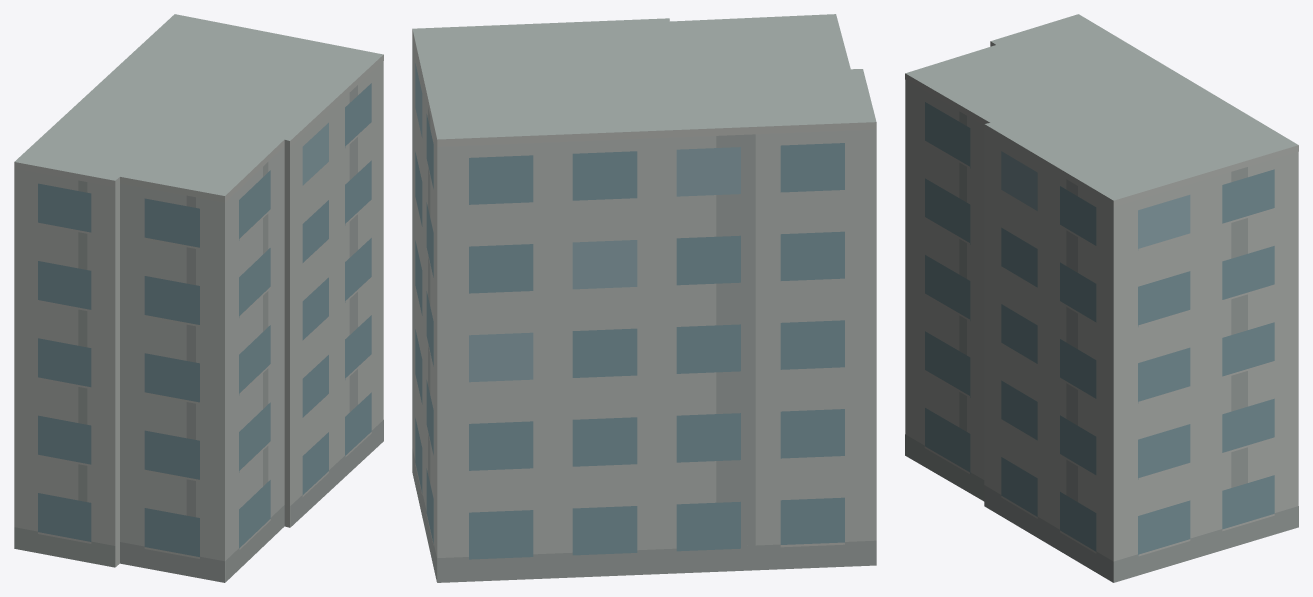
Rendered from survey-upis-32506693.glb.
3 views of the same model, side by side, from view 1: azimuth 30°, elevation 25°; view 2: azimuth 150°, elevation 25°; view 3: azimuth 270°, elevation 25° (orthographic). The views are drawn at different scales.
Parts seen in each view (by area): view 1: survey-upis-32506693.tmp; view 2: survey-upis-32506693.tmp; view 3: survey-upis-32506693.tmp.
Boxes of the visible parts, x1,y1,x2,y2 form: survey-upis-32506693.tmp: [14, 14, 383, 582]; survey-upis-32506693.tmp: [412, 14, 876, 582]; survey-upis-32506693.tmp: [905, 14, 1298, 582].
Size of the model in its own units: 15.09 by 14.4 by 13.45.
